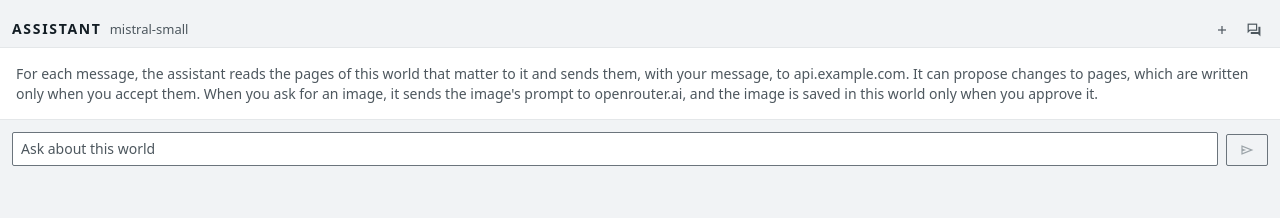
Scenario: sending a message › puts a refused message back into the composer with the core's reason
In the text box named "Message": (615, 149) x1=12 y1=132 x2=1218 y2=166, type "Who lives at Kesh Tor?"
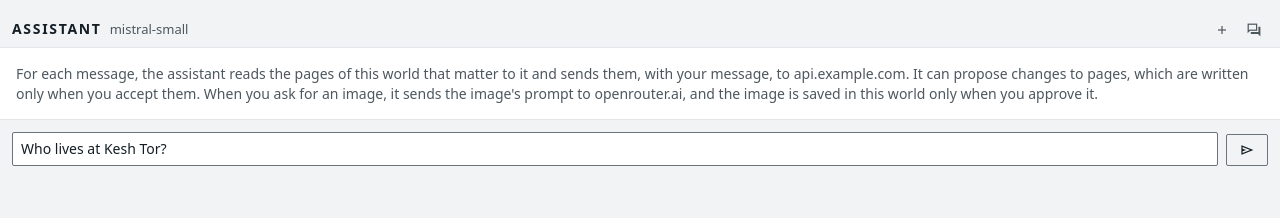
Press Enter in the text box named "Message", box x1=12 y1=132 x2=1218 y2=166
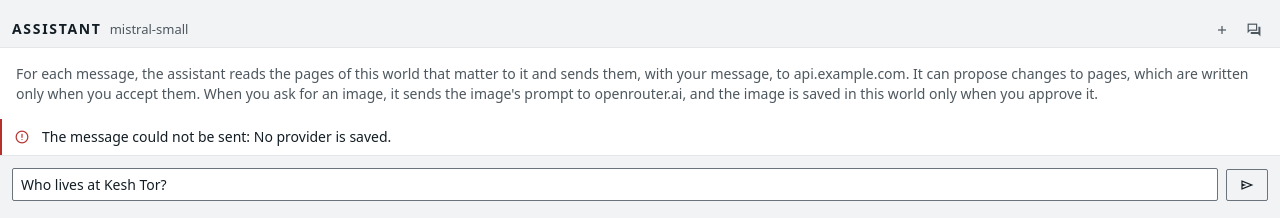
Check: the message reads "The message could not be sent: No provider is saved.", box x1=42 y1=127 x2=391 y2=146
